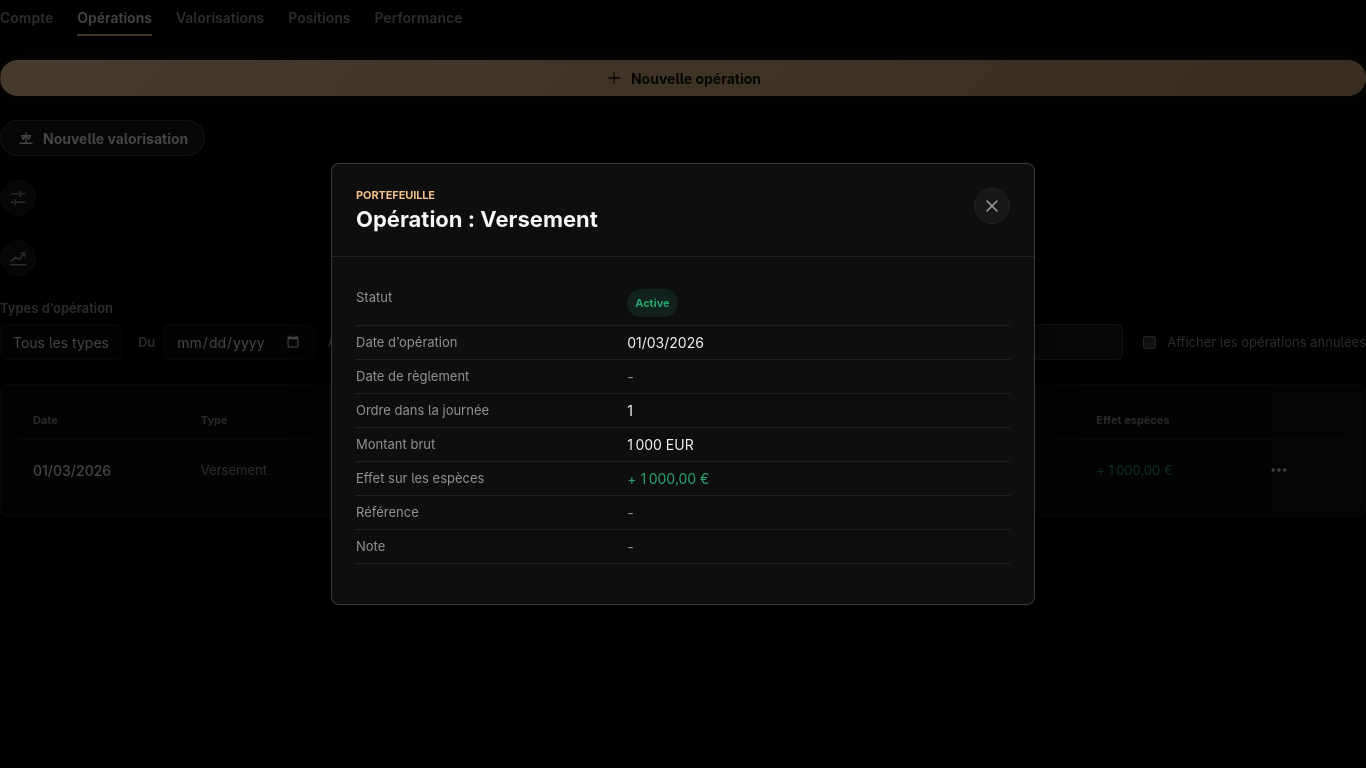
Test: PortfolioAccountPage › dismisses a deliberate operation deep link with button without reopening it after refresh
The image size is (1366, 768).
Expected: the dialog "Opération : Versement" is shown, 331,163 -> 1035,605
Step 1. Click the button named "Fermer" → click(992, 206), box 974,188 -> 1010,224
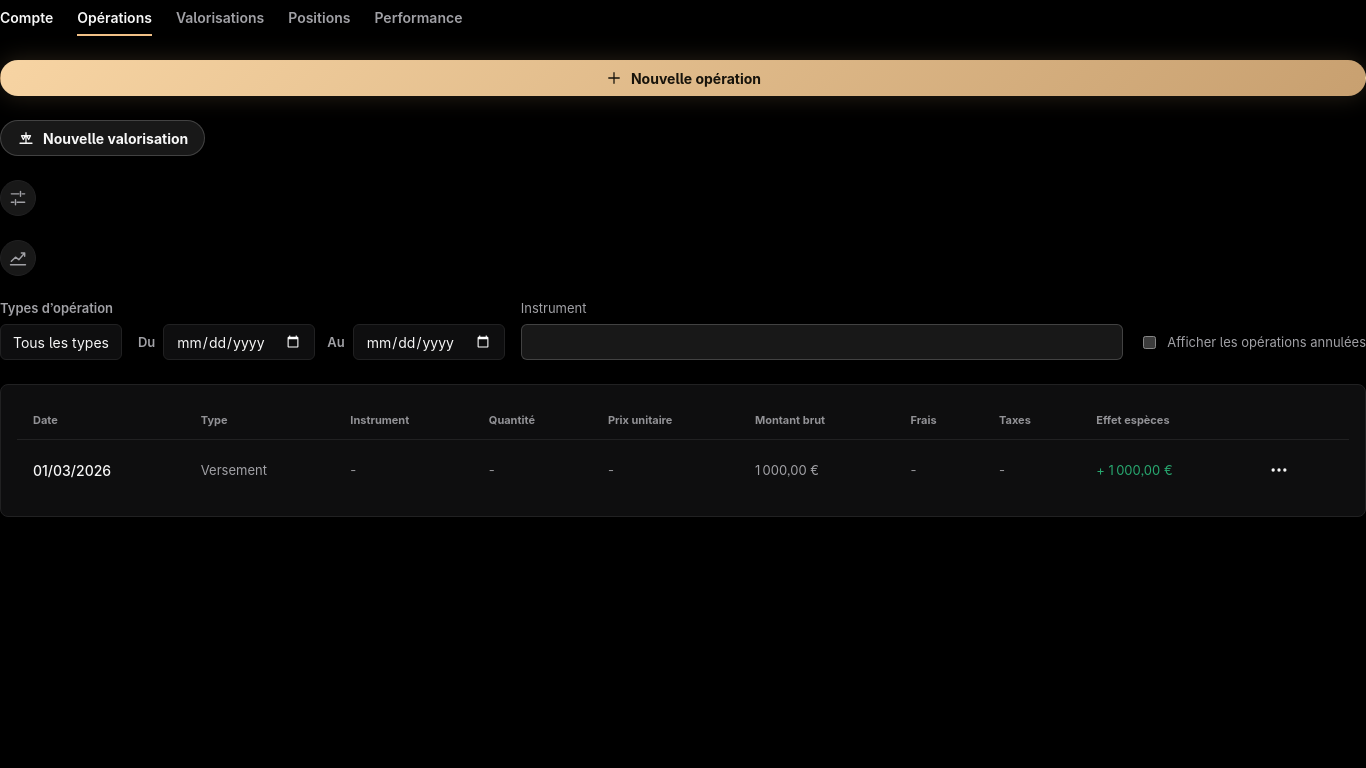
Now the dialog is gone
